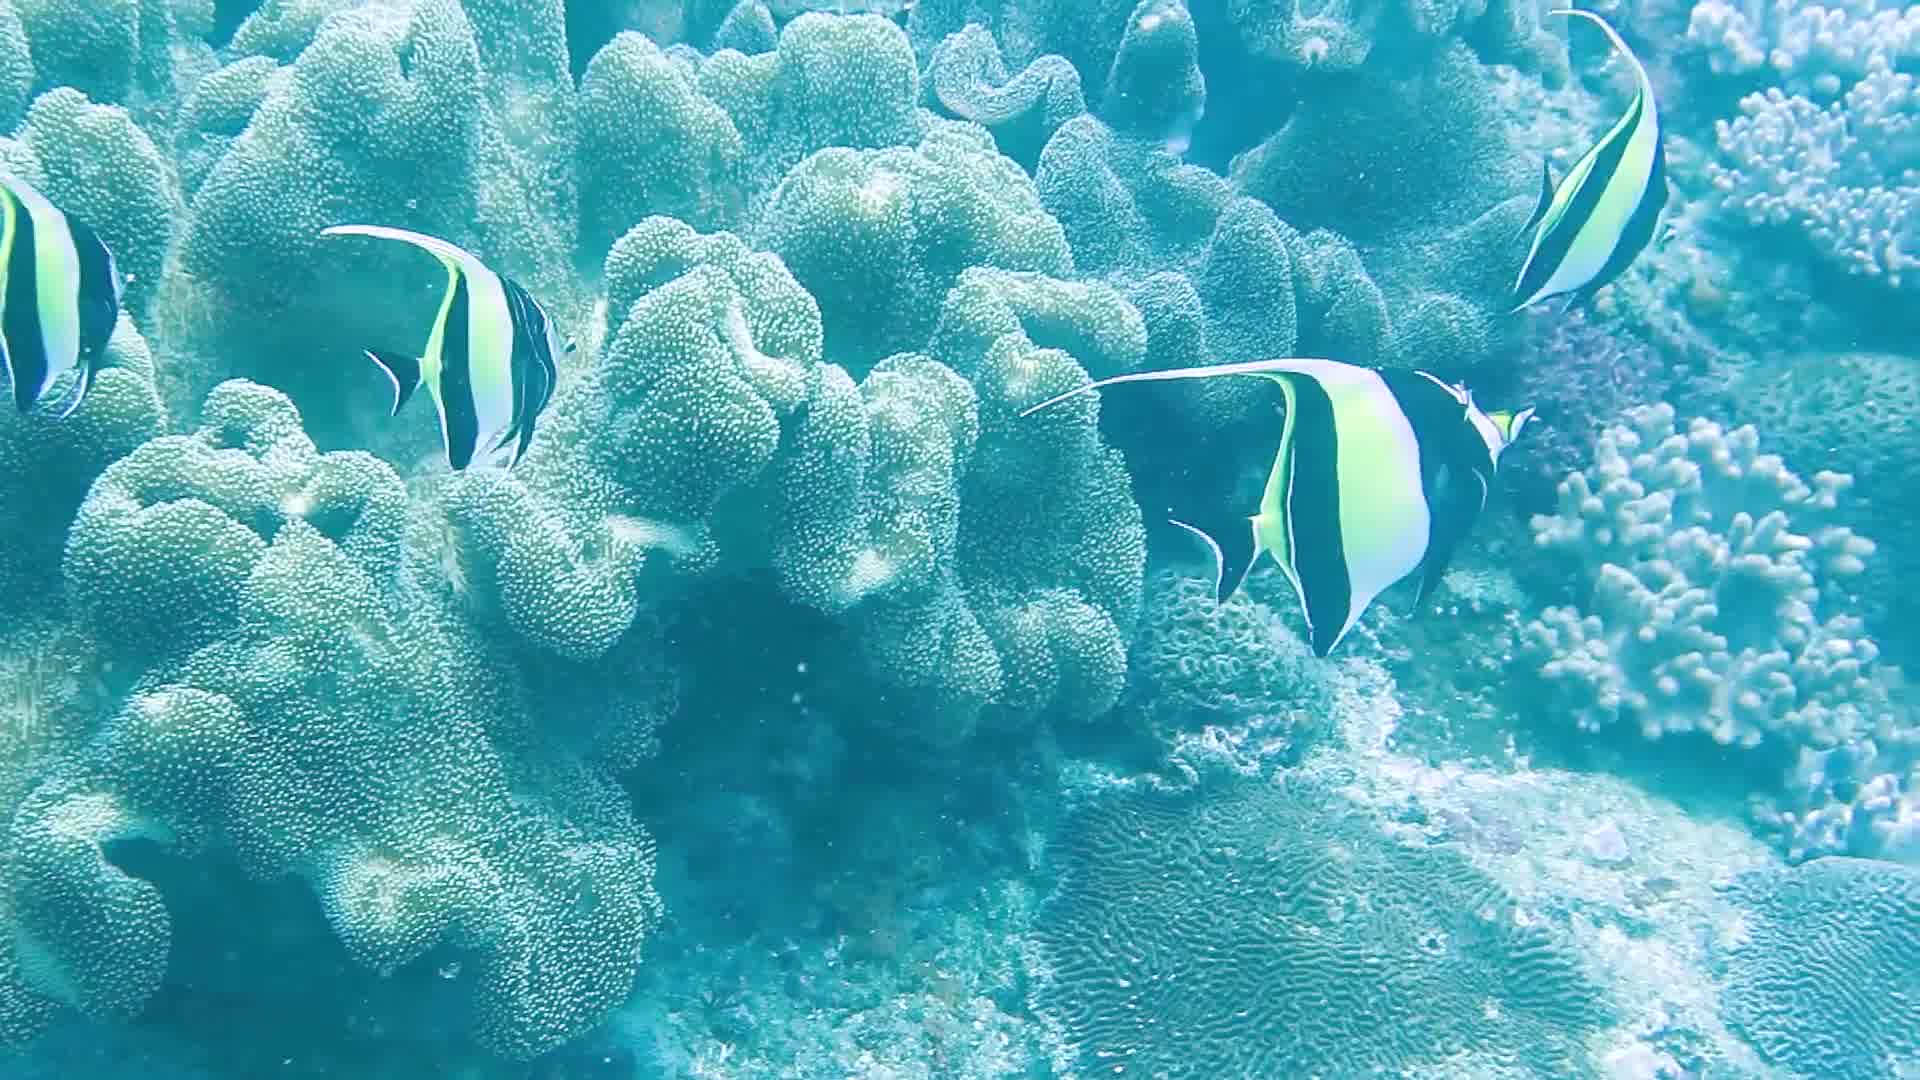Zanclus cornutus: (1201, 324, 1510, 682), (1485, 61, 1709, 326), (367, 215, 591, 480), (1, 173, 145, 438)
